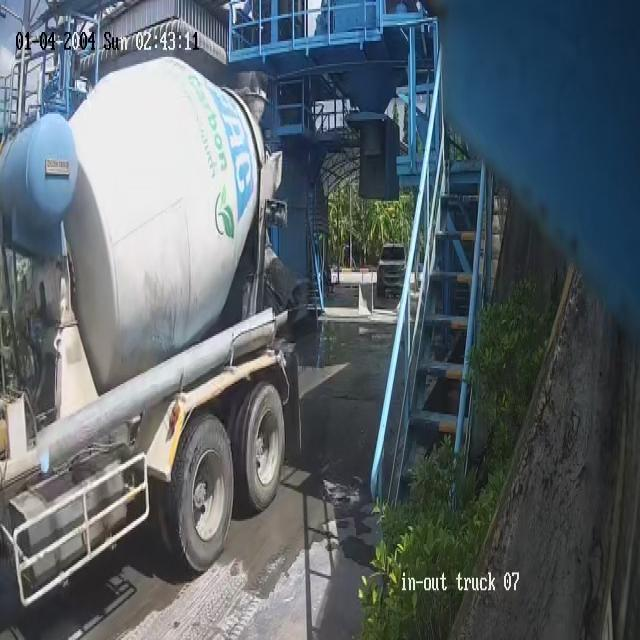cement_mixer_truck: (0, 58, 279, 640)
